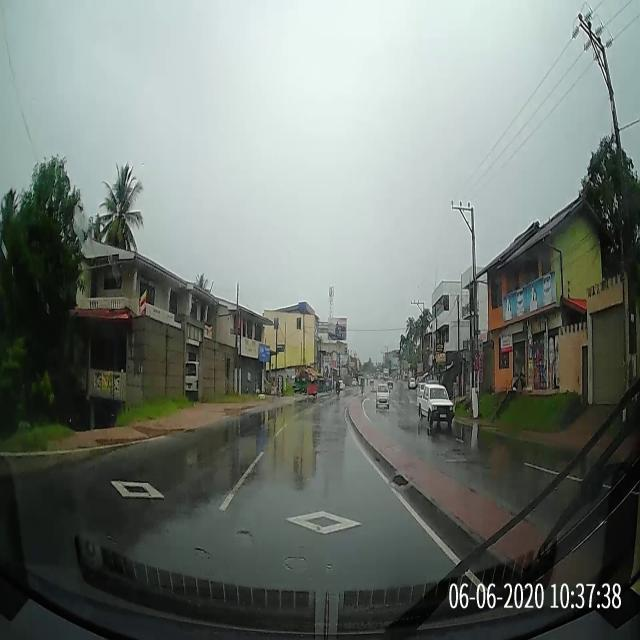diamond: (208, 505, 444, 542)
